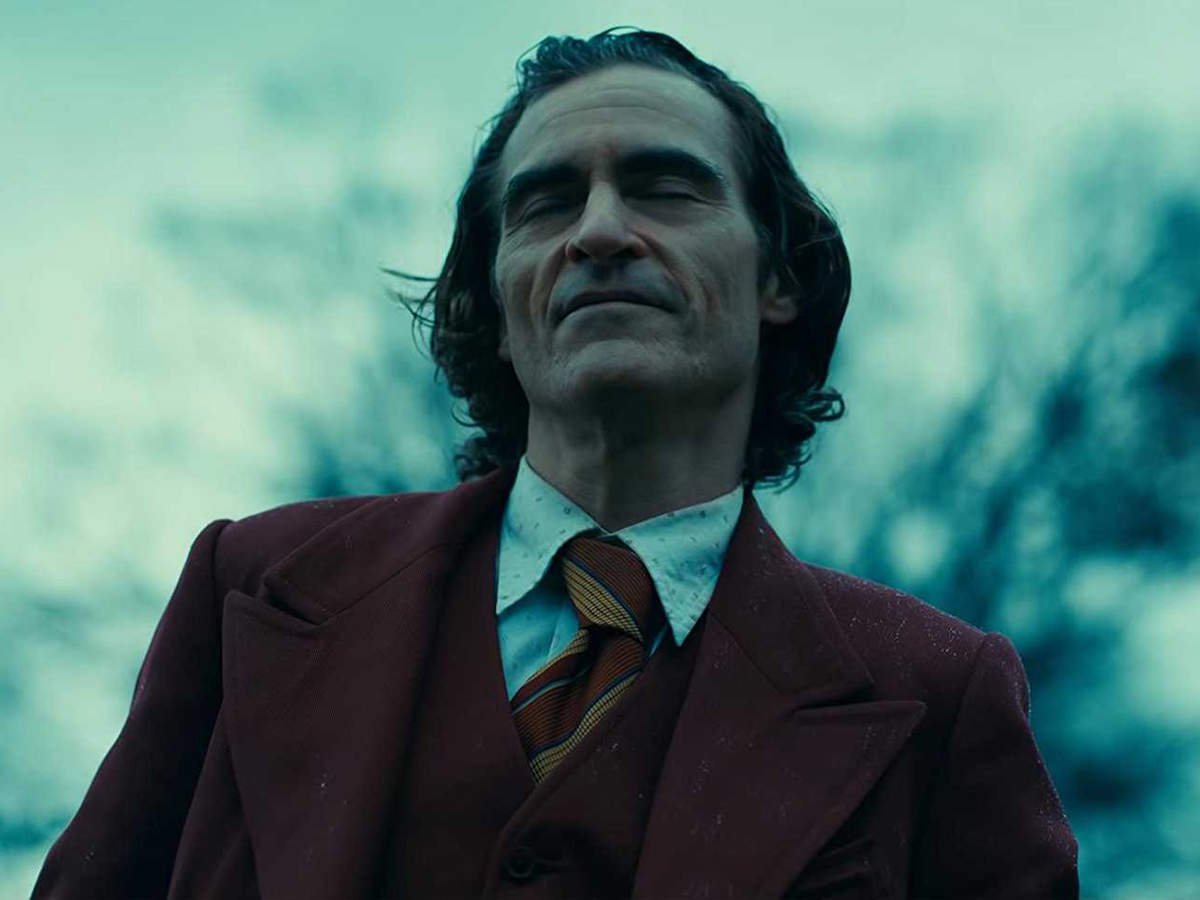noMask: (420, 25, 820, 441)
